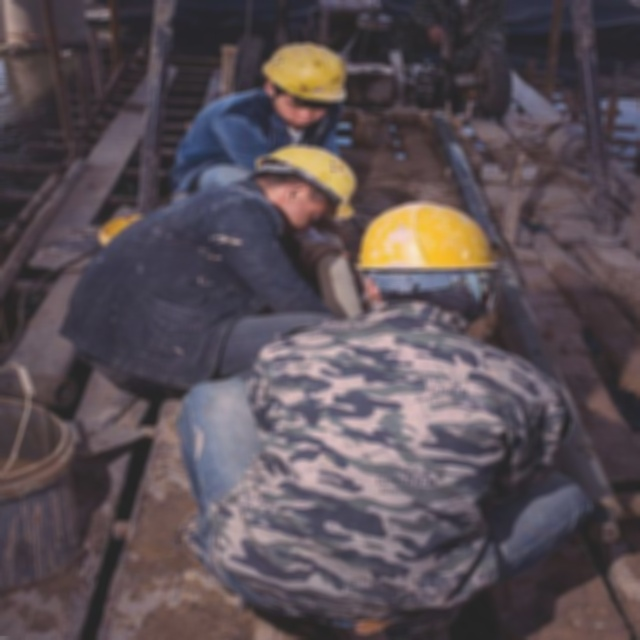Con_Casco: (343, 196, 511, 334)
